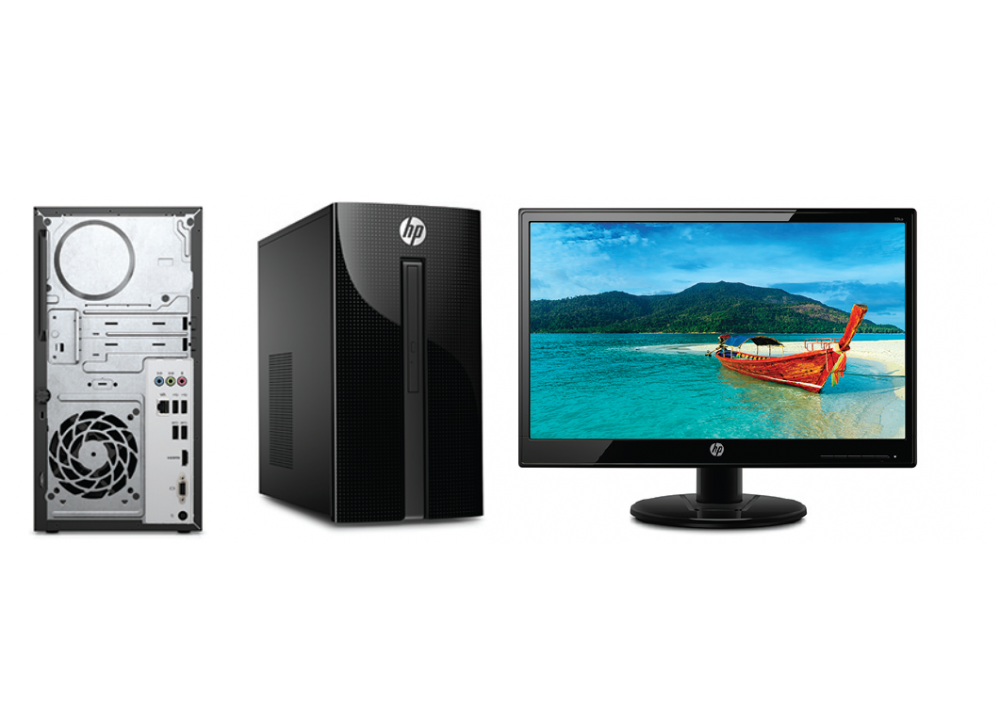hp-monitor-19ka: (513, 207, 917, 543)
